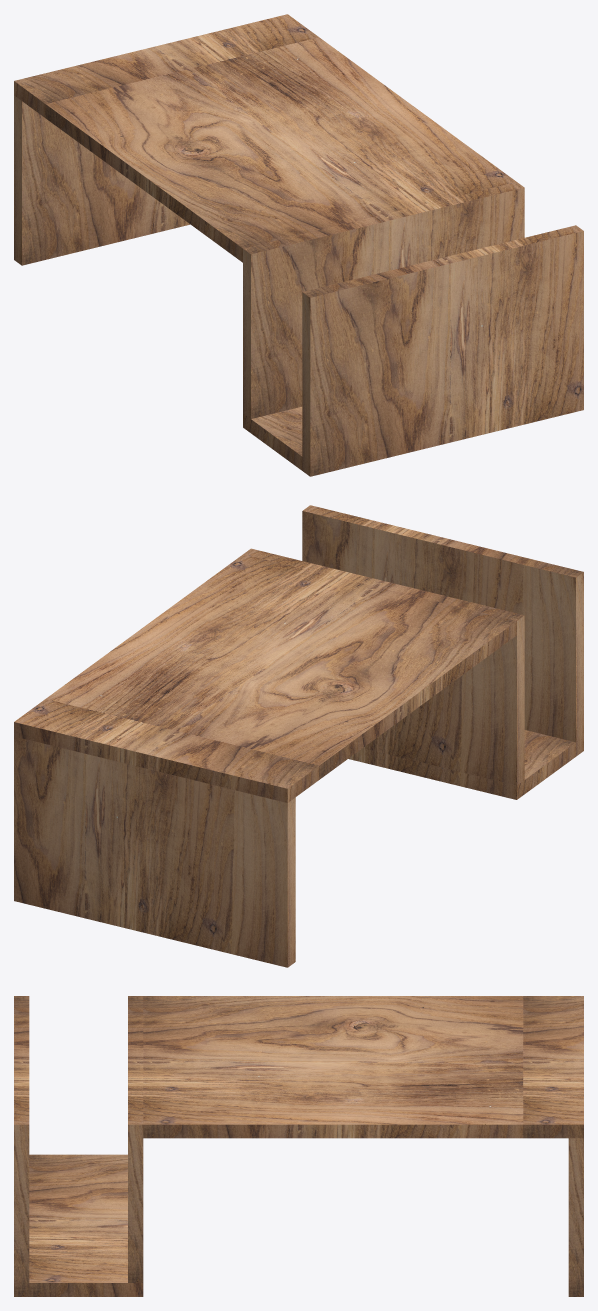
The model's file is 20201107 山姆材質桌.dae.
3 renders of one model, top to bottom at view 1: azimuth 30°, elevation 25°; view 2: azimuth 150°, elevation 25°; view 3: azimuth 270°, elevation 25°, orthographic. The views are drawn at different scales.
Visible parts, largest first — view 1: group_5, group_1, group_4, group_2, group_3; view 2: group_5, group_2, group_1, group_4, group_3; view 3: group_5, group_3, group_1, group_4, group_2.
Boxes of the visible parts, <box> form: group_5: <box>14,14,516,262</box>; group_1: <box>302,225,583,476</box>; group_4: <box>243,182,524,418</box>; group_2: <box>14,95,190,265</box>; group_3: <box>243,407,302,470</box>; group_5: <box>14,554,516,802</box>; group_2: <box>14,736,295,967</box>; group_1: <box>302,505,583,756</box>; group_4: <box>243,548,524,785</box>; group_3: <box>348,730,575,799</box>; group_5: <box>143,996,583,1138</box>; group_3: <box>29,1154,143,1296</box>; group_1: <box>14,996,29,1296</box>; group_4: <box>128,996,143,1282</box>; group_2: <box>568,1138,583,1296</box>.
Size of the model in its own units: 31.5 by 59.06 by 19.69.
